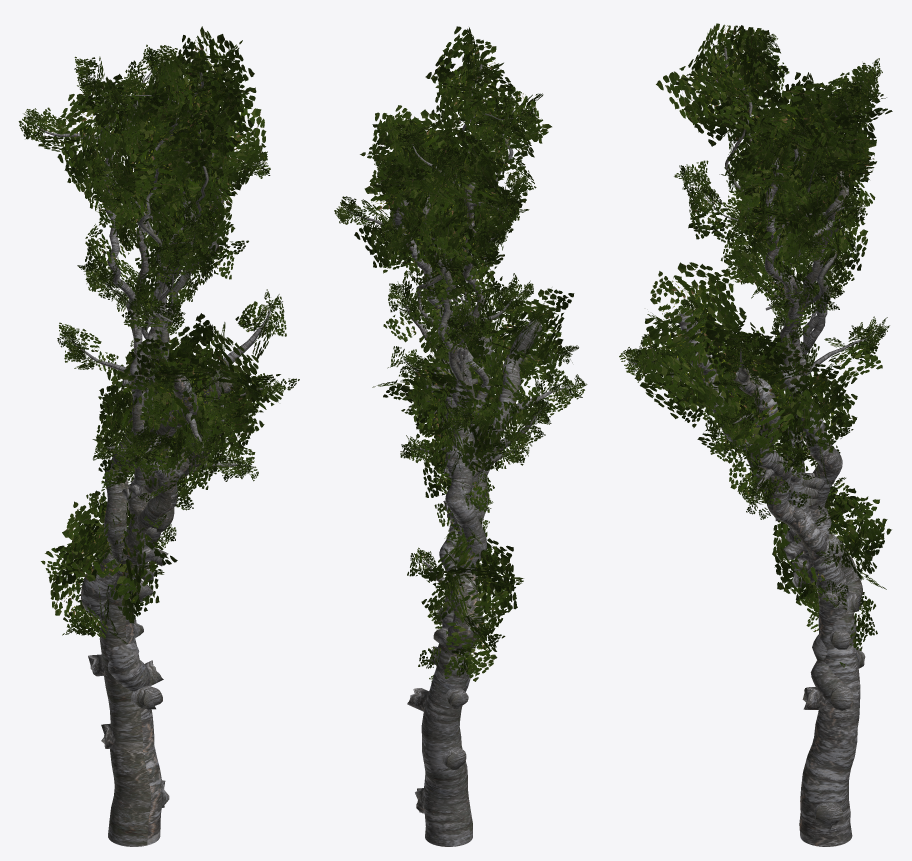
The model's file is Tree_26.fbx.
The picture shows the model from 3 angles, left to right: view 1: azimuth 30°, elevation 25°; view 2: azimuth 150°, elevation 25°; view 3: azimuth 270°, elevation 25°; orthographic projection. The views are drawn at different scales.
Visible parts, largest first — view 1: Tree_19; view 2: Tree_19; view 3: Tree_19.
Boxes of the visible parts, box(x1,y1,x2,y2) form: Tree_19: box(18, 26, 299, 846); Tree_19: box(334, 26, 587, 846); Tree_19: box(619, 23, 892, 846).
Size of the model in its own units: 1907 by 6708 by 2043.
